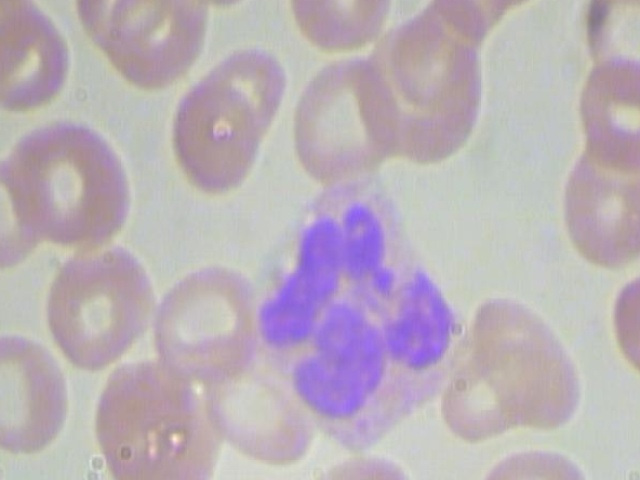RBC: (471, 289, 592, 438), (286, 50, 407, 199), (43, 235, 162, 370), (156, 75, 275, 209), (153, 253, 258, 385), (555, 136, 640, 275), (568, 53, 640, 171), (286, 0, 404, 57), (569, 0, 640, 84)
WBC: (242, 174, 478, 462)
